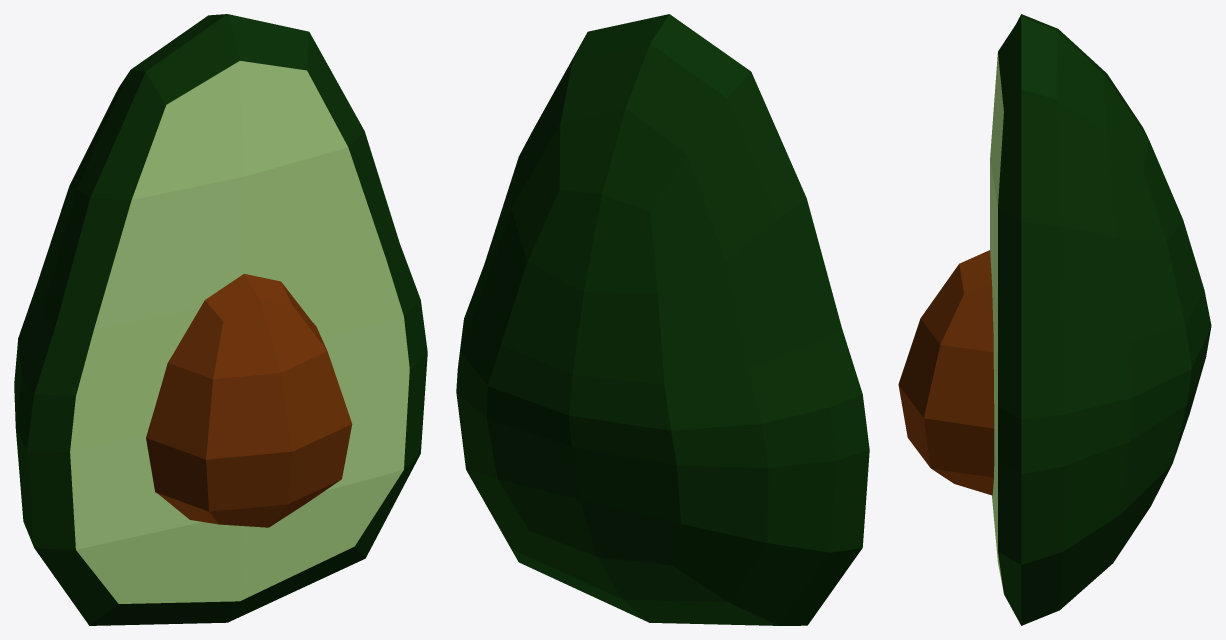
Rendered from avocado.fbx.
3 views of the same model, side by side, from view 1: azimuth 30°, elevation 25°; view 2: azimuth 150°, elevation 25°; view 3: azimuth 270°, elevation 25° (orthographic). The views are drawn at different scales.
Visible parts, largest first — view 1: Avocado; view 2: Avocado; view 3: Avocado.
Part boxes in pixels (x1=…): Avocado: x1=14, y1=14, x2=427, y2=625; Avocado: x1=456, y1=14, x2=869, y2=625; Avocado: x1=898, y1=14, x2=1211, y2=625.
Bounding box in the file's own units: 75.31 × 109 × 53.98.
